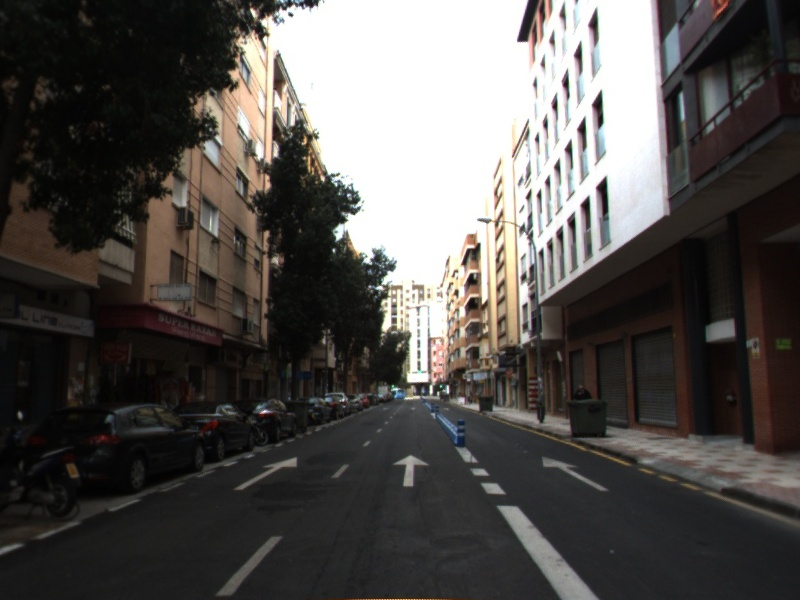STRAIGHT: (540, 455, 612, 494), (232, 455, 299, 492), (391, 452, 431, 489)
